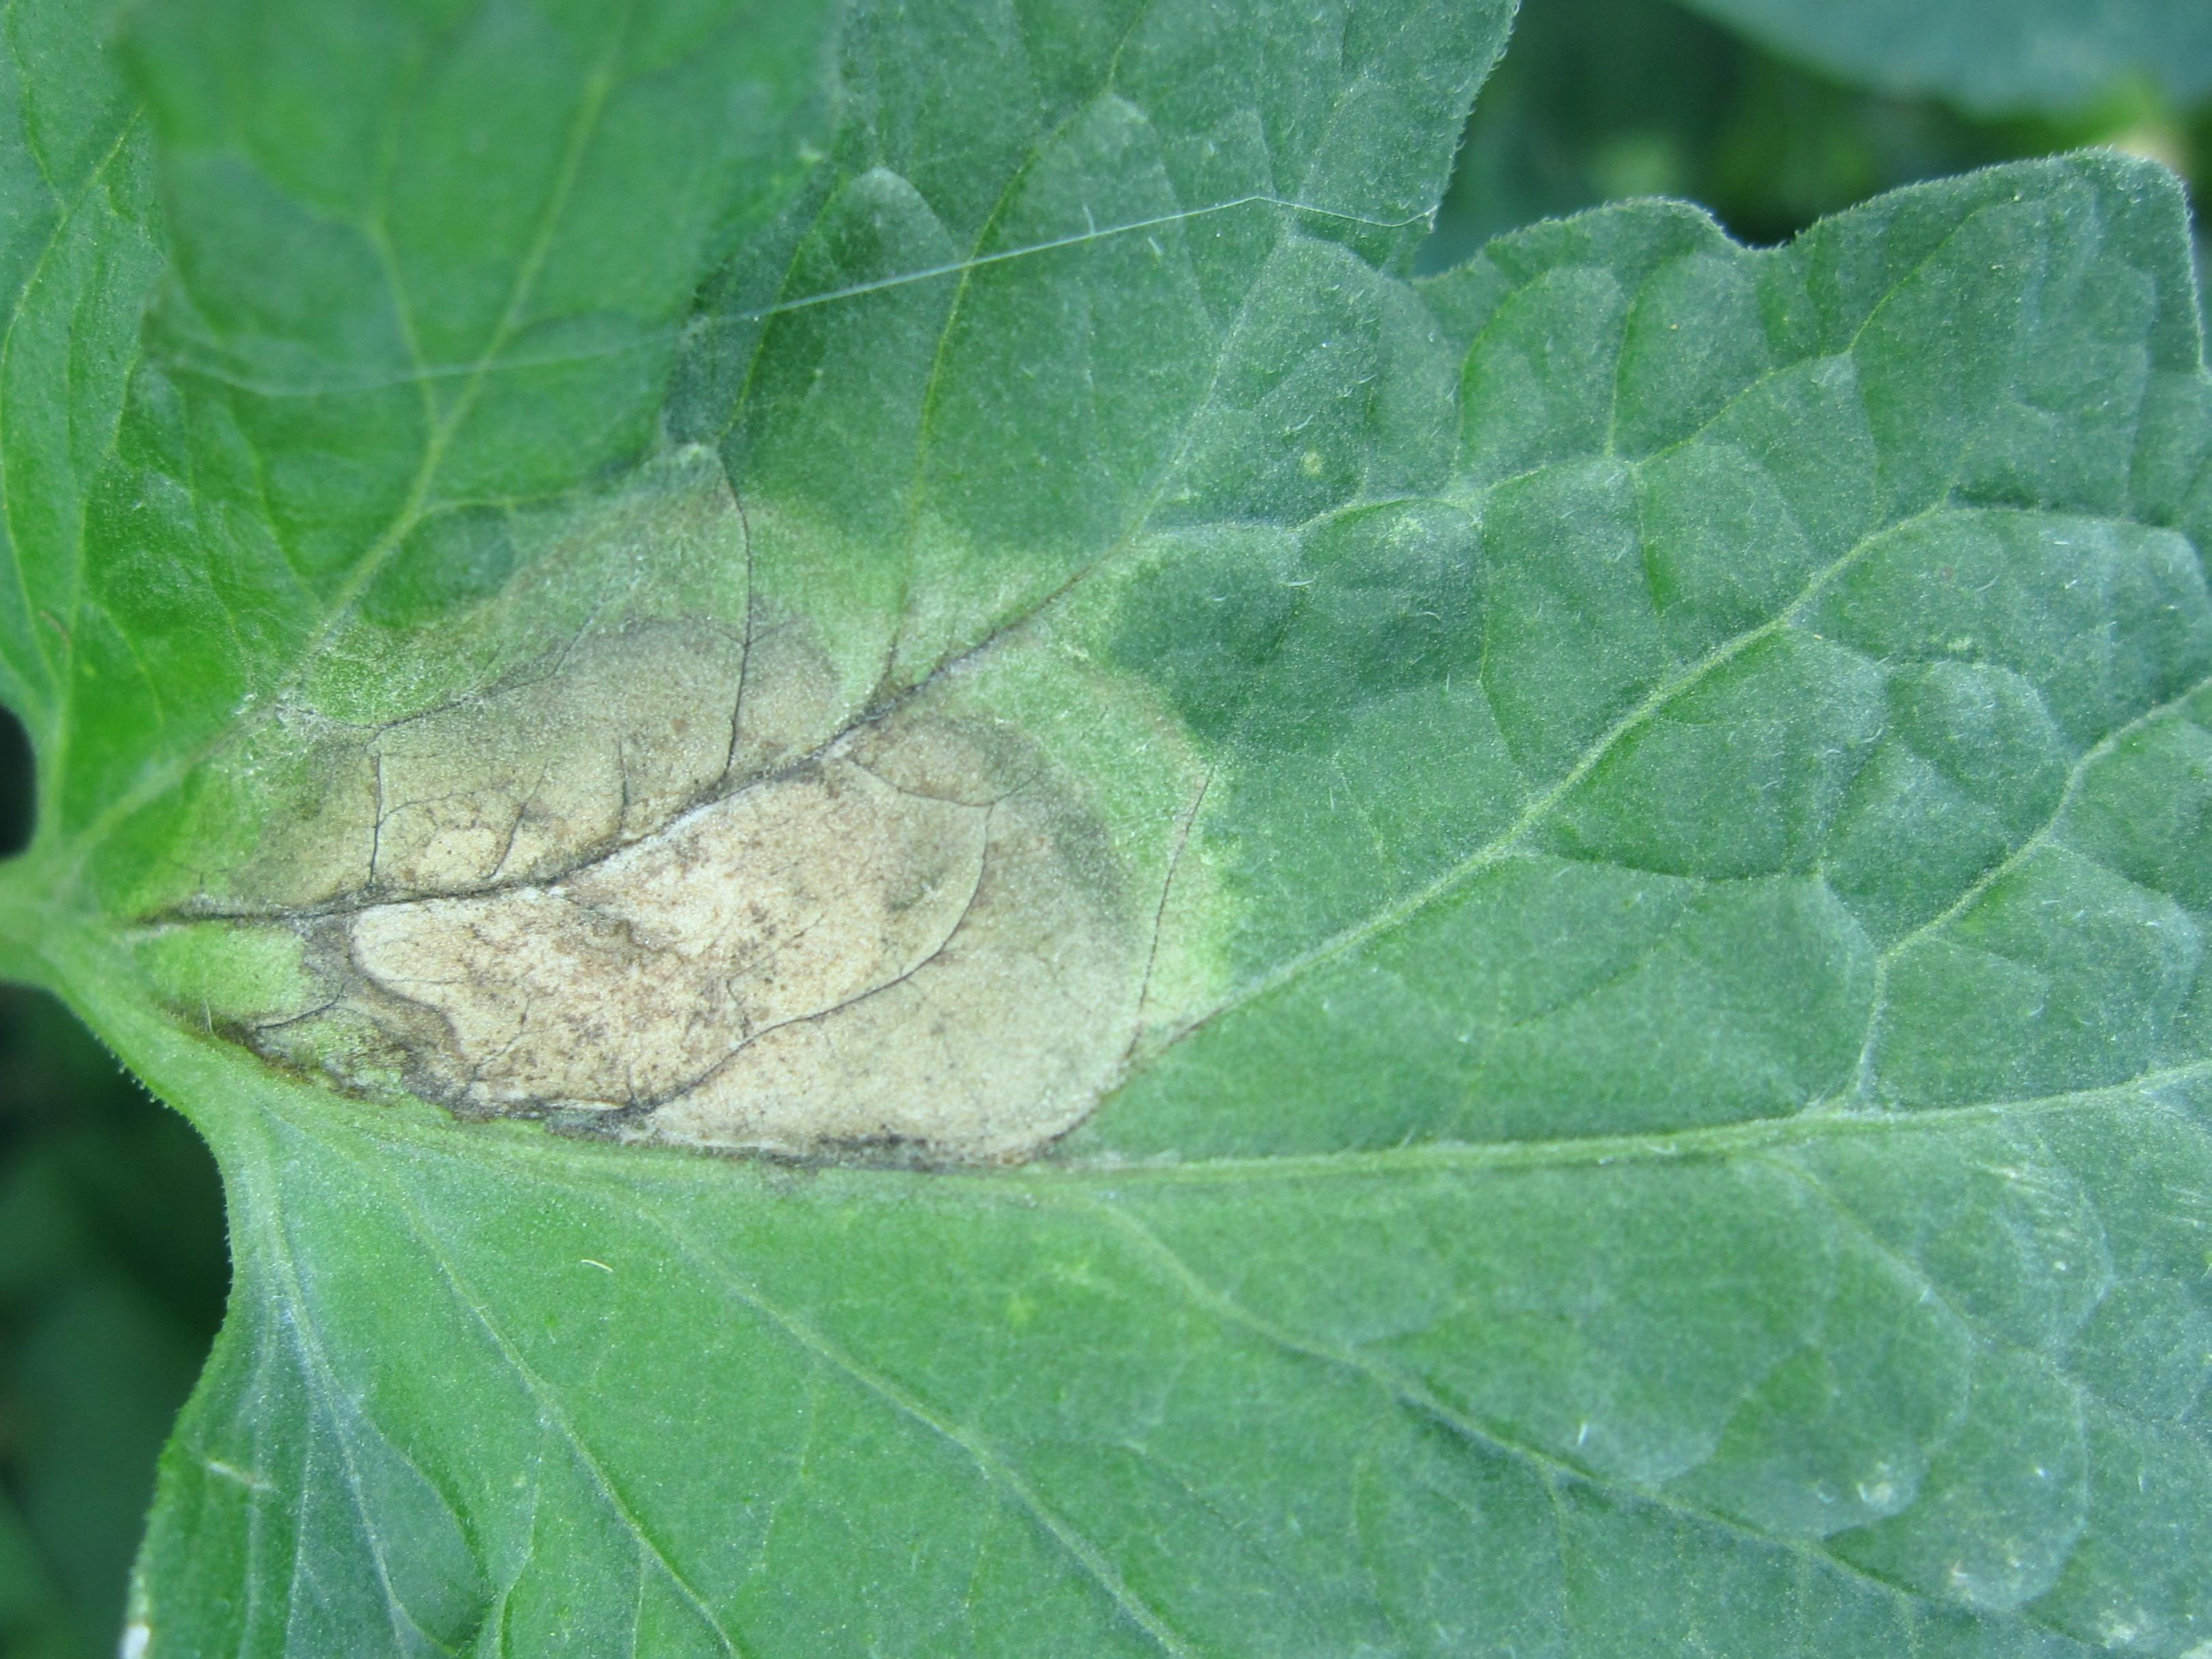Tomato leaf late blight: (19, 26, 2195, 1605)
